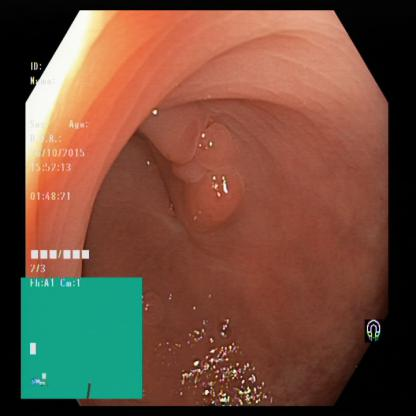Labels: (23, 48, 105, 277), (22, 276, 143, 399), (357, 307, 389, 354)
Polyps: (148, 112, 252, 230)
